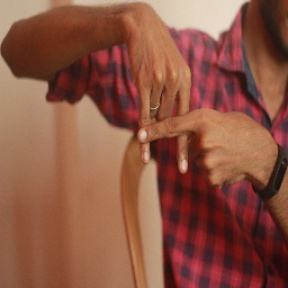H: (123, 72, 224, 175)
